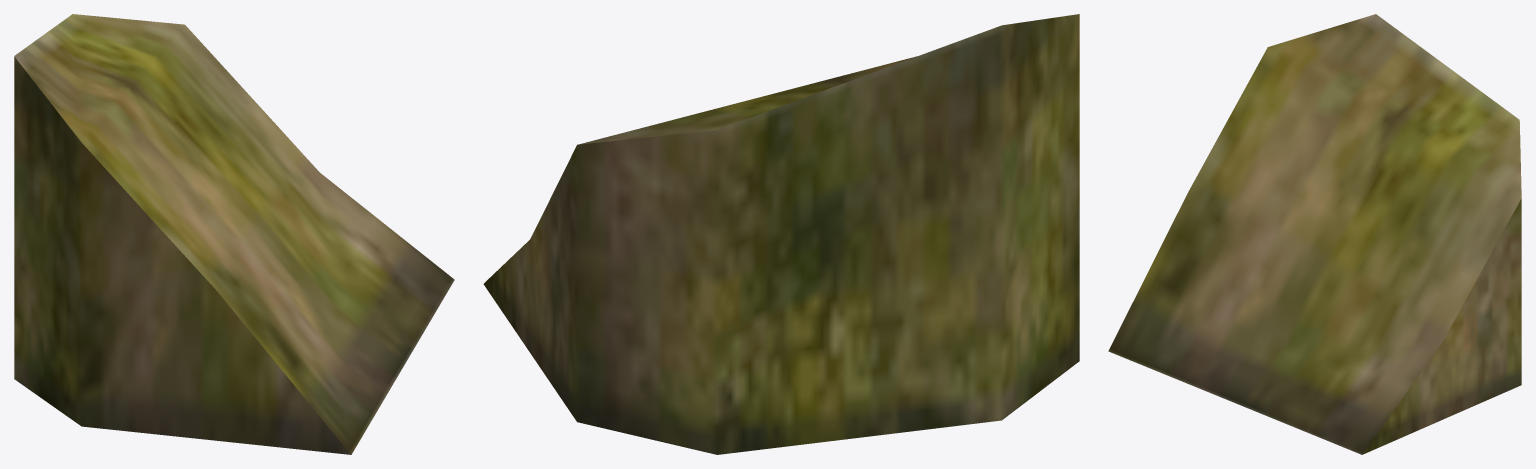
File: OVERHILL_A_01_OBJECT75.fbx
The picture shows the model from 3 angles, left to right: view 1: azimuth 30°, elevation 25°; view 2: azimuth 150°, elevation 25°; view 3: azimuth 270°, elevation 25°; orthographic projection. The views are drawn at different scales.
Parts seen in each view (by area): view 1: OVERHILL_A_01_OBJECT75; view 2: OVERHILL_A_01_OBJECT75; view 3: OVERHILL_A_01_OBJECT75.
Boxes of the visible parts, bbox=[...] form: OVERHILL_A_01_OBJECT75: bbox=[14, 14, 454, 454]; OVERHILL_A_01_OBJECT75: bbox=[483, 14, 1079, 454]; OVERHILL_A_01_OBJECT75: bbox=[1108, 14, 1521, 454].
Size of the model in its own units: 10345 by 7387 by 10375.
Materials: 1 (1 with a texture image).
